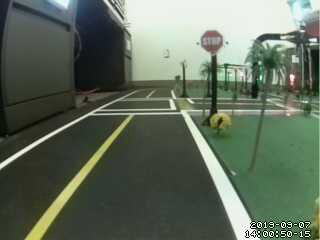Stop_Sign: (191, 27, 234, 60)
